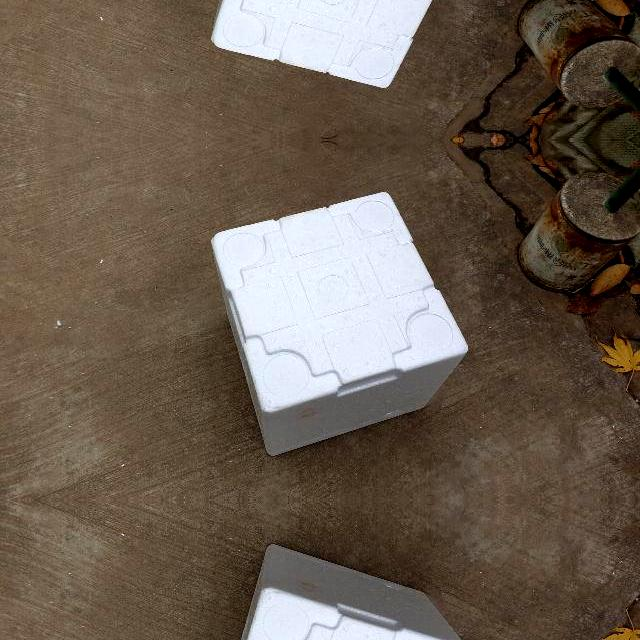Styrofoam: (210, 190, 468, 458), (212, 192, 468, 454), (209, 542, 468, 640), (209, 0, 468, 89), (242, 546, 461, 640), (212, 0, 433, 88)
